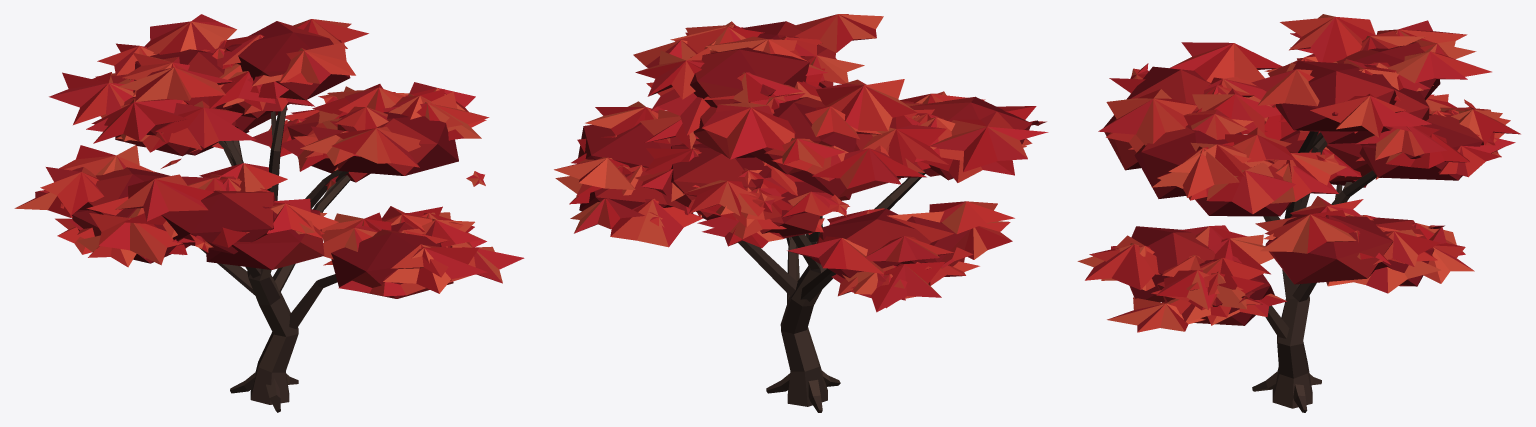
File: zen_maple_red.glb
The picture shows the model from 3 angles, left to right: view 1: azimuth 30°, elevation 25°; view 2: azimuth 150°, elevation 25°; view 3: azimuth 270°, elevation 25°; orthographic projection. The views are drawn at different scales.
Visible parts, largest first — view 1: zen_maple_red; view 2: zen_maple_red; view 3: zen_maple_red.
Part boxes in pixels (<box>): zen_maple_red: <box>14,14,524,412</box>; zen_maple_red: <box>554,14,1048,412</box>; zen_maple_red: <box>1077,14,1520,412</box>.
Size of the model in its own units: 8.43 by 7.03 by 8.08.
